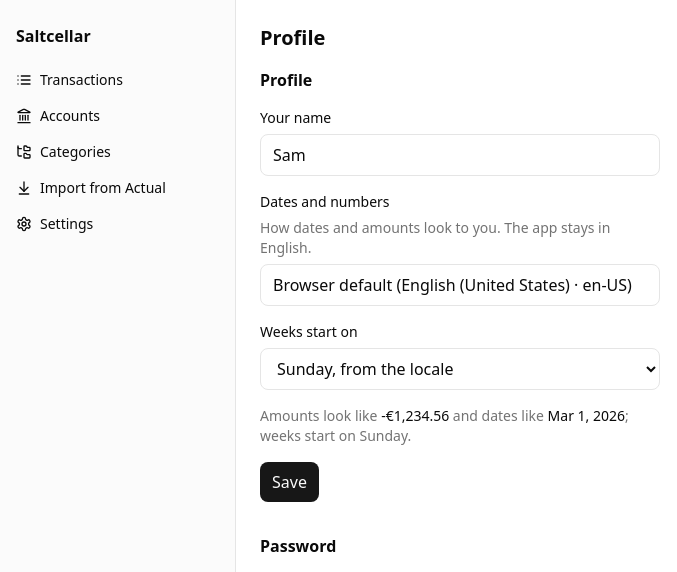
Test case: Settings › Profile › changes number and date formats at once when the locale changes to de-DE
The image size is (677, 572).
Replace the text in the dropdown with id "display_locale" with "german germany" at (460, 285), box [260,264,660,306]
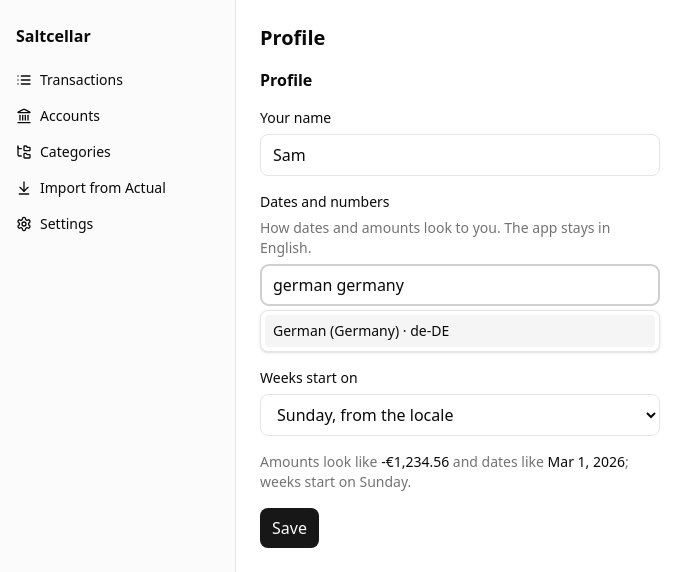
Click the option "German (Germany) · de-DE" at (361, 330), box [265,315,655,347]
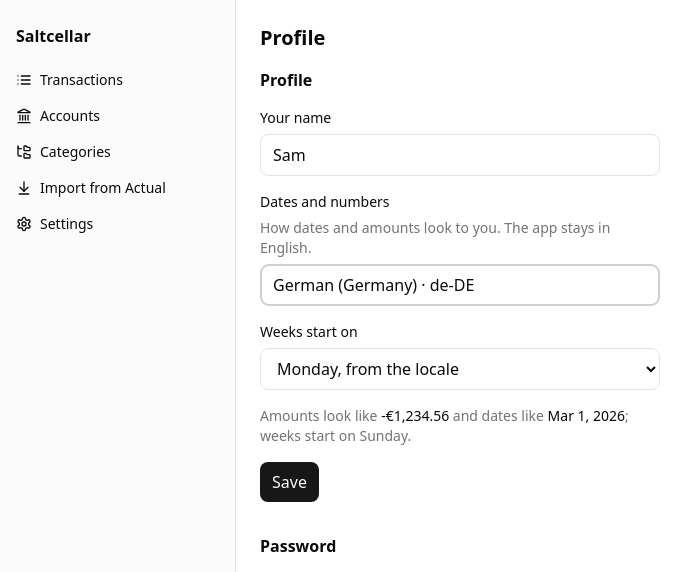
Submit the form that starts with "Your name", box [260,108,660,502]
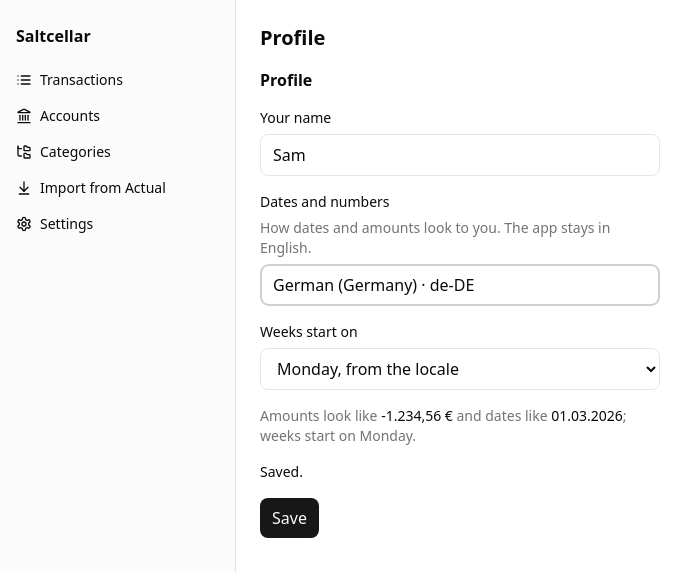
Now the message "Saved." is shown, box [260,462,303,481]
